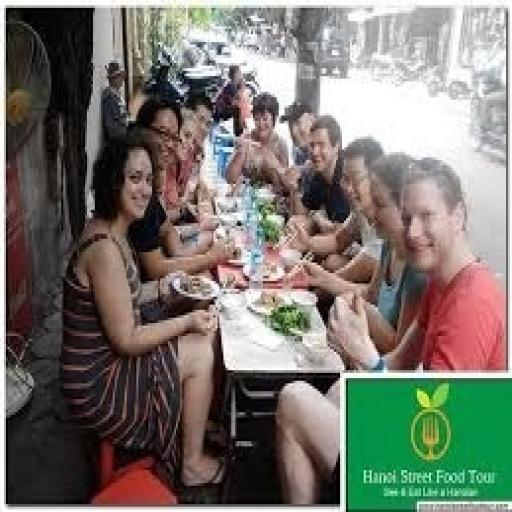eating: (57, 68, 504, 499), (60, 134, 232, 494)
